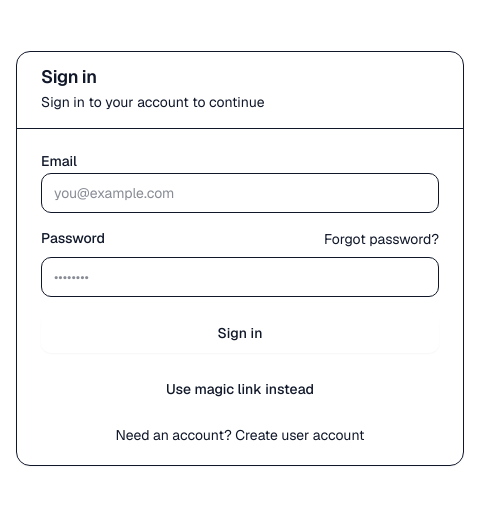
Test: LoginPage › should show error when password login fails
Type "user@example.com" into the field labelled "Email" at (240,192), box top-left (41, 172), bottom-right (439, 212)
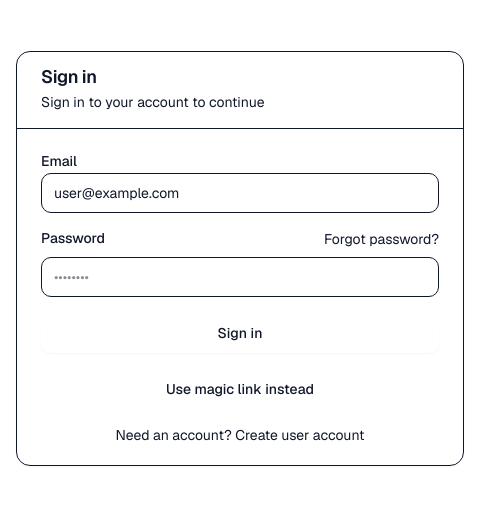
Type "wrong" into the password field labelled "Password" at (240,276), box top-left (41, 256), bottom-right (439, 296)
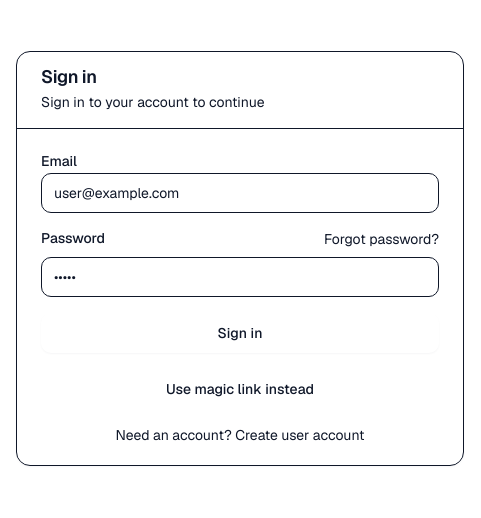
Submit the form from the button "Sign in", box top-left (41, 312), bottom-right (439, 352)
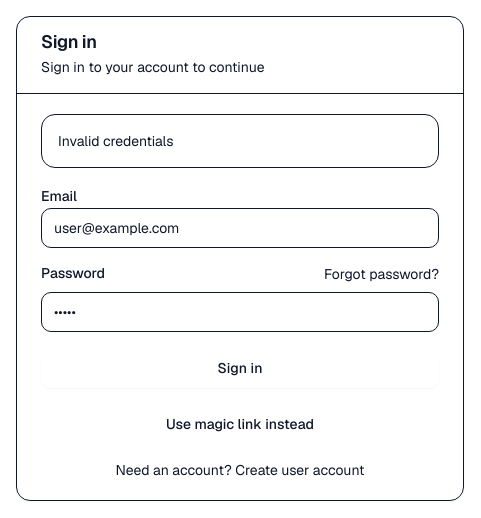
Check: the text "Invalid credentials" is shown, box top-left (58, 132), bottom-right (174, 150)
